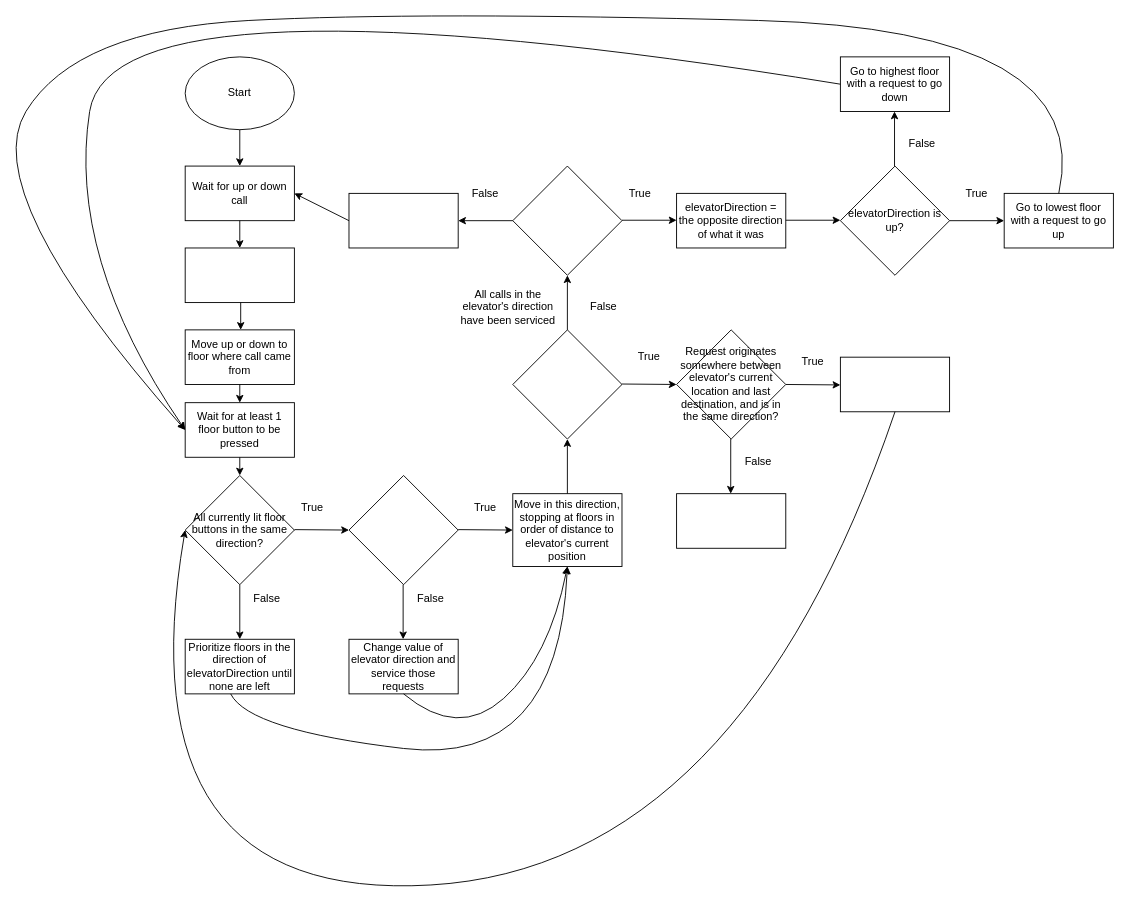
This 1129x902 diagram has some shape labels left out. Here are the shapes that lost their labels. From the top down, the centre of each, then its label:
the point at 403,220: Wait for a short period before going to the first floor
the point at 567,220: Requests exist in the opposite direction?
the point at 239,275: elevatorDirection = direction of call ("up" or "down")
the point at 567,384: Elevator is called during this process?
the point at 894,384: Stop at that floor to let passengers on
the point at 403,530: This direction is equal to elevatorDirection?
the point at 731,520: Do not stop at that floor, wait for the appropriate time instead
